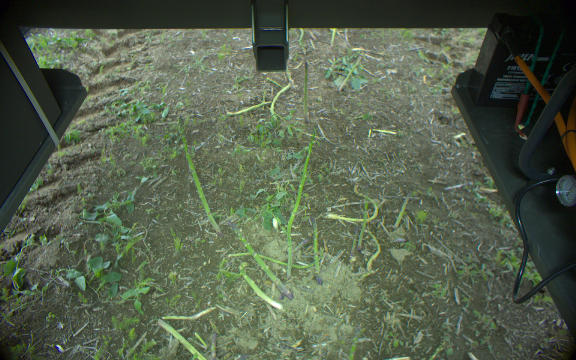aspa: (174, 114, 219, 238), (226, 222, 292, 300), (284, 129, 315, 278), (155, 319, 205, 360), (236, 269, 281, 312), (391, 187, 412, 229), (309, 214, 320, 286), (349, 322, 363, 360), (347, 219, 360, 257), (301, 58, 309, 117), (208, 331, 218, 360), (291, 238, 308, 255)
